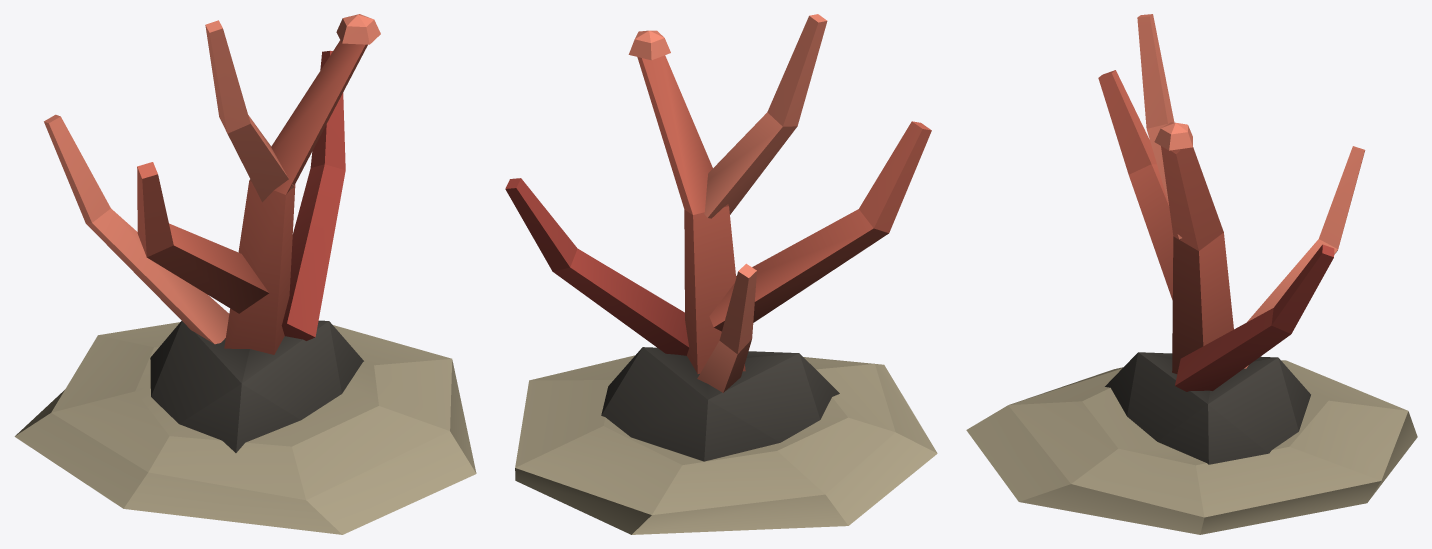
The model's file is coral_red.glb.
The picture shows the model from 3 angles, left to right: view 1: azimuth 30°, elevation 25°; view 2: azimuth 150°, elevation 25°; view 3: azimuth 270°, elevation 25°; orthographic projection. The views are drawn at different scales.
Parts seen in each view (by area): view 1: body; view 2: body; view 3: body.
Part boxes in pixels (bbox=[...]): body: bbox=[14, 14, 476, 534]; body: bbox=[505, 14, 937, 534]; body: bbox=[966, 14, 1417, 534].
Bounding box in the file's own units: 0.5293 × 0.6136 × 0.5916.
